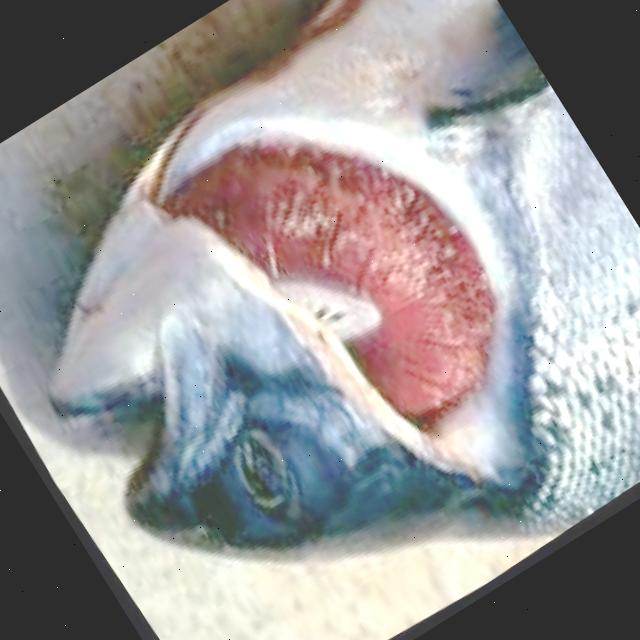Flavobacterium -Bacterial Gill Disease-: (50, 0, 640, 551)
